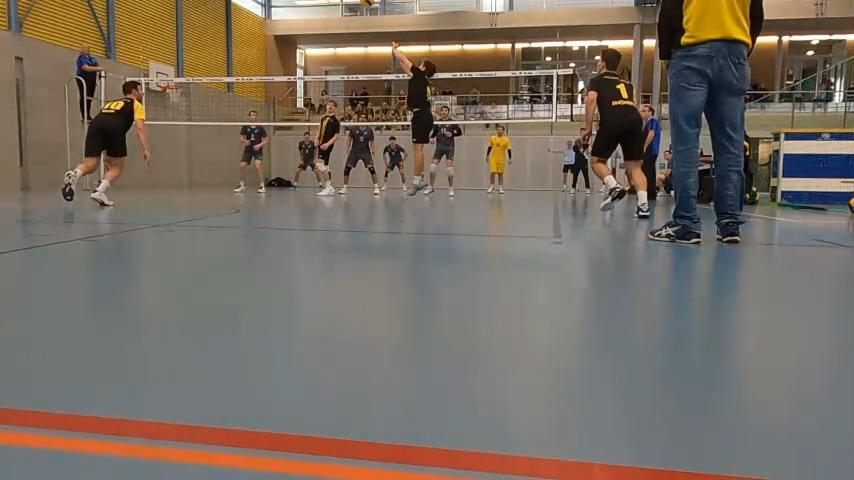alzata: (386, 40, 438, 199)
